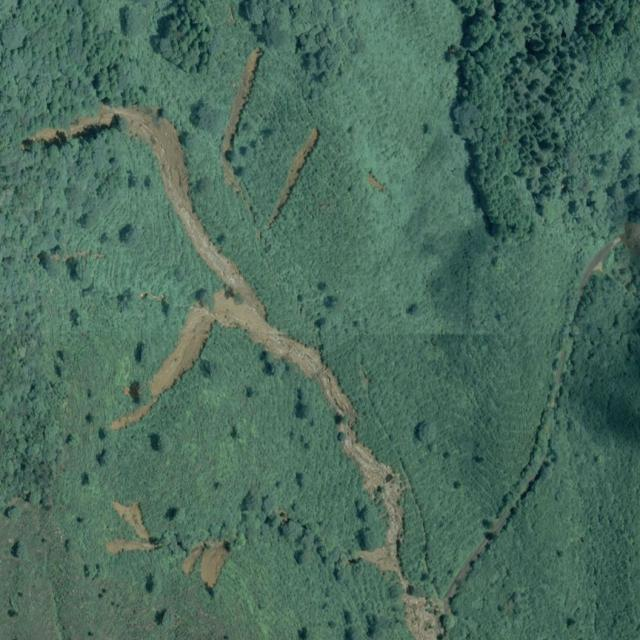landslide: (35, 105, 441, 640)
